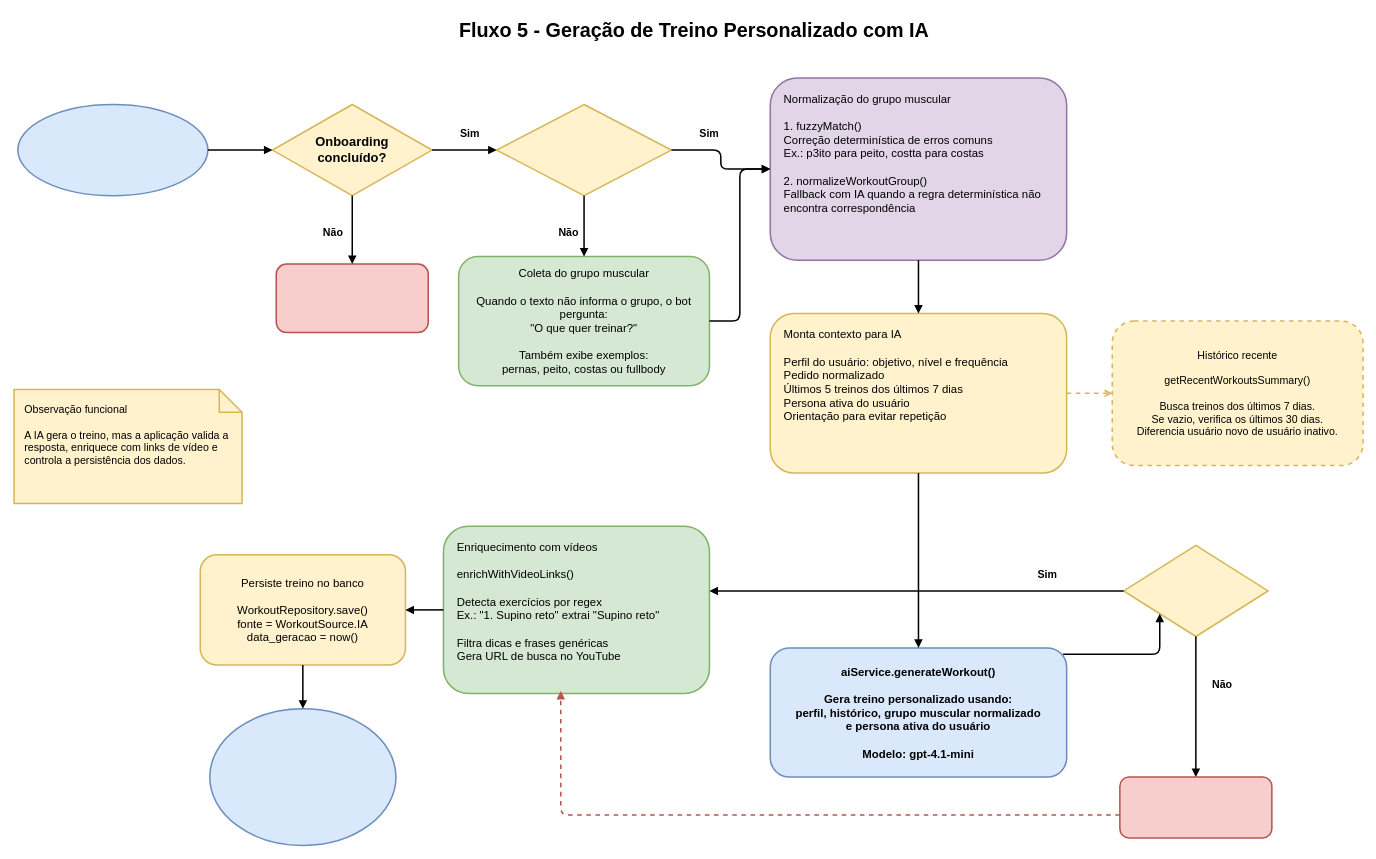
This 1376x859 diagram has some shape labels left out. The shapes that lost their labels are listed below. From the top down, each one's centre as x and y in pixels, then its label:
point (112, 149): Usuário envia /treino ou "quero treinar peito"
point (584, 149): Texto contém grupo muscular?
point (352, 298): Redireciona usuário para /start
point (1195, 590): Resposta válida?
point (302, 777): Entrega treino + vídeos Sugere /treino_feito para registrar execução
point (1195, 807): Fallback determinístico
